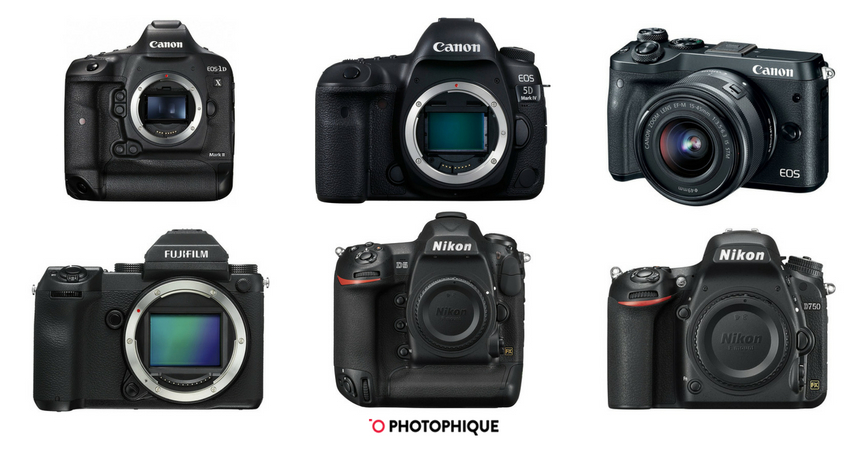camera: (610, 30, 831, 197), (318, 39, 543, 201), (32, 254, 263, 411), (607, 246, 829, 408), (333, 240, 521, 409), (63, 42, 234, 203)
